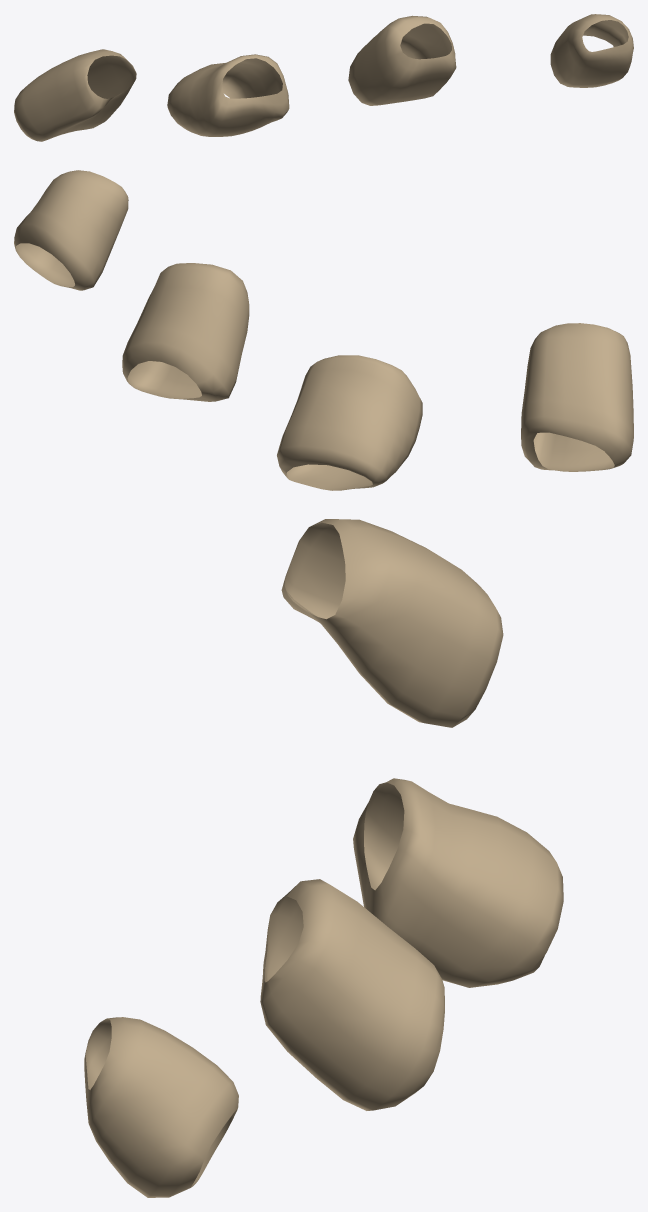
3 renders of one model, top to bottom at view 1: azimuth 30°, elevation 25°; view 2: azimuth 150°, elevation 25°; view 3: azimuth 270°, elevation 25°, orthographic. The views are drawn at different scales.
Parts seen in each view (by area): view 1: 右侧手近侧指间关节囊; view 2: 右侧手近侧指间关节囊; view 3: 右侧手近侧指间关节囊.
Boxes of the visible parts, <box> form: 右侧手近侧指间关节囊: <box>14,14,633,141</box>; 右侧手近侧指间关节囊: <box>14,170,633,490</box>; 右侧手近侧指间关节囊: <box>84,519,563,1197</box>.
Size of the model in its own units: 0.1307 by 0.0318 by 0.0498.
